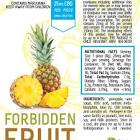Pineapple: (29, 23, 61, 106)
